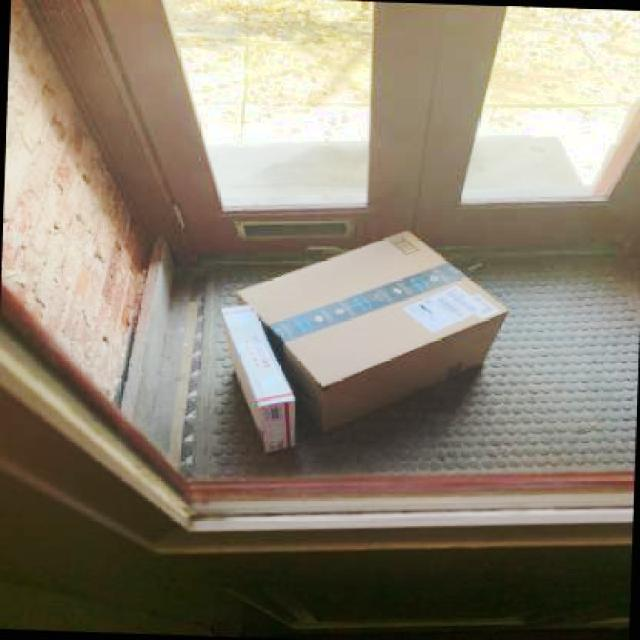Box: (231, 224, 511, 444), (212, 304, 302, 456)
